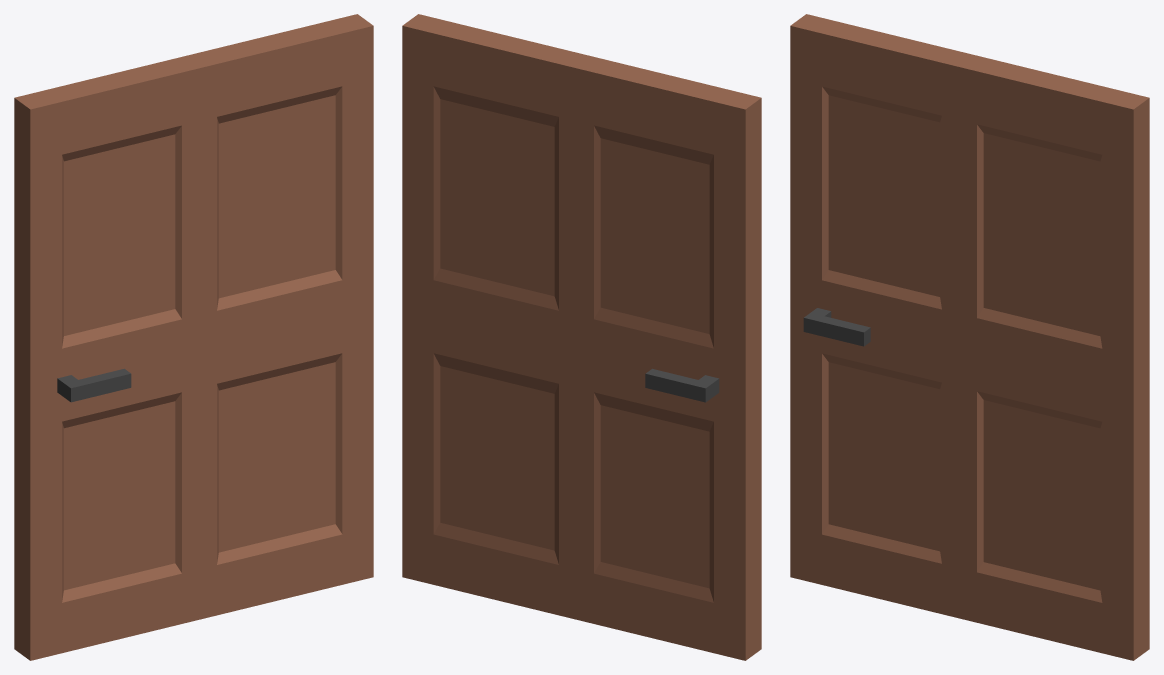
Rendered from PuertaGenerica.fbx.
The picture shows the model from 3 angles, left to right: view 1: azimuth 30°, elevation 25°; view 2: azimuth 150°, elevation 25°; view 3: azimuth 330°, elevation 25°; orthographic projection.
Visible parts, largest first — view 1: Puerta, Puerta.002; view 2: Puerta, Puerta.001; view 3: Puerta, Puerta.002.
Part boxes in pixels (x1=…): Puerta: x1=14, y1=14, x2=373, y2=660; Puerta.002: x1=57, y1=368, x2=131, y2=402; Puerta: x1=402, y1=14, x2=761, y2=660; Puerta.001: x1=645, y1=368, x2=719, y2=402; Puerta: x1=790, y1=14, x2=1149, y2=660; Puerta.002: x1=803, y1=308, x2=870, y2=346.
Bounding box in the file's own units: 173 × 265 × 37.73.
